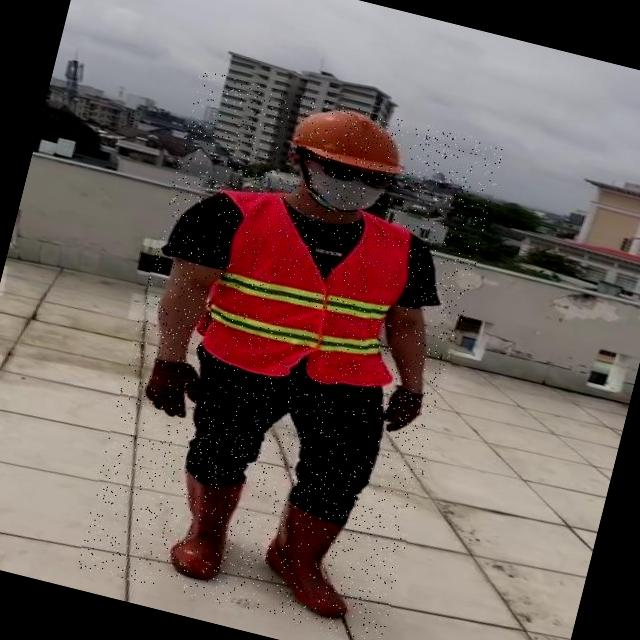boots: (255, 498, 368, 623), (160, 473, 242, 588)
gloves: (145, 359, 197, 416), (383, 386, 421, 431)
helmet: (276, 92, 418, 182)
vest: (180, 180, 422, 398)
